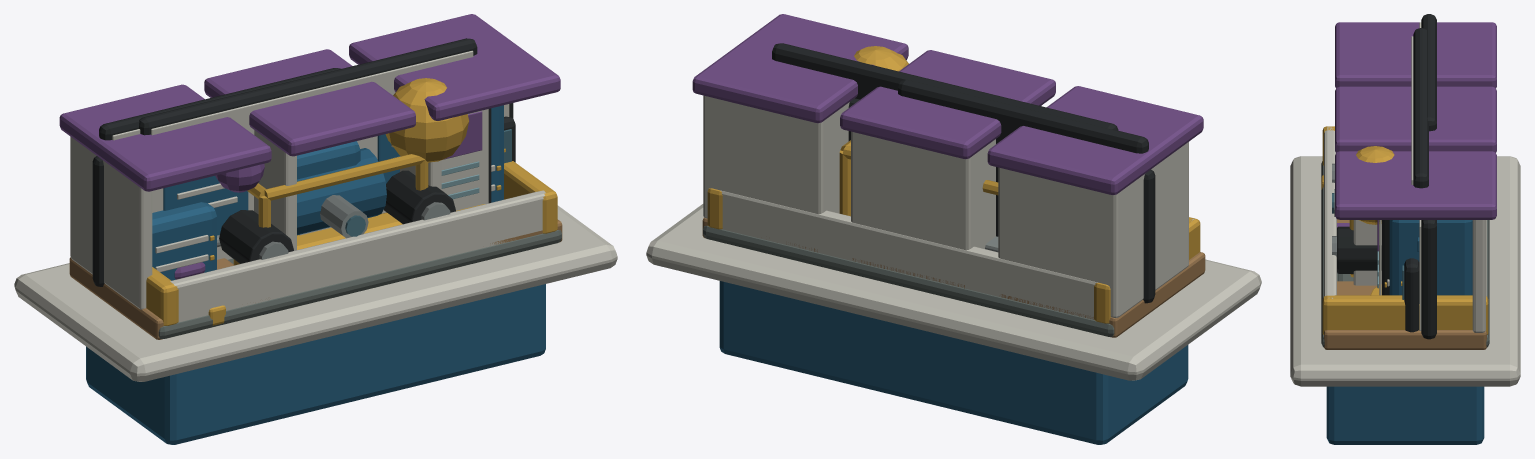
File: exhibits.glb
3 renders of one model, left to right at view 1: azimuth 30°, elevation 25°; view 2: azimuth 150°, elevation 25°; view 3: azimuth 270°, elevation 25°, orthographic. The views are drawn at different scales.
Parts seen in each view (by area): view 1: ExhibitGameBody, ExhibitRentixeBody, ExhibitHullBody, ExhibitIssueBody, ExhibitServicesBody, ExhibitResponsiveBody, ReasoningBallHeavy, ExhibitHealthBody, ReasoningBallLight; view 2: ExhibitRentixeBody, ExhibitGameBody, ExhibitResponsiveBody, ExhibitIssueBody, ExhibitHealthBody, ExhibitHullBody, ReasoningBallHeavy; view 3: ExhibitGameBody, ExhibitRentixeBody, ExhibitServicesBody, ExhibitHullBody, ExhibitIssueBody, ExhibitResponsiveBody, ExhibitHealthBody, ReasoningBallHeavy.
Part boxes in pixels (x1,y1,x2,y2): ExhibitGameBody: (14,161,617,444); ExhibitRentixeBody: (59,14,562,339); ExhibitHullBody: (219,116,515,263); ExhibitIssueBody: (139,38,477,265); ExhibitServicesBody: (152,105,503,280); ExhibitResponsiveBody: (99,68,491,247); ReasoningBallHeavy: (385,78,469,162); ExhibitHealthBody: (92,103,513,286); ReasoningBallLight: (215,164,264,192); ExhibitRentixeBody: (692,14,1205,337); ExhibitGameBody: (646,188,1261,444); ExhibitResponsiveBody: (898,79,1148,252); ExhibitIssueBody: (772,43,1118,130); ExhibitHealthBody: (848,98,1155,303); ExhibitHullBody: (839,140,998,216); ReasoningBallHeavy: (854,46,908,71); ExhibitGameBody: (1290,126,1520,444); ExhibitRentixeBody: (1324,22,1496,349); ExhibitServicesBody: (1384,220,1472,295); ExhibitHullBody: (1332,163,1419,332); ExhibitIssueBody: (1411,28,1428,188); ExhibitResponsiveBody: (1377,14,1436,295); ExhibitHealthBody: (1417,220,1436,339); ReasoningBallHeavy: (1356,146,1394,224).
Size of the model in its own units: 3.9 by 2.2 by 1.75.
